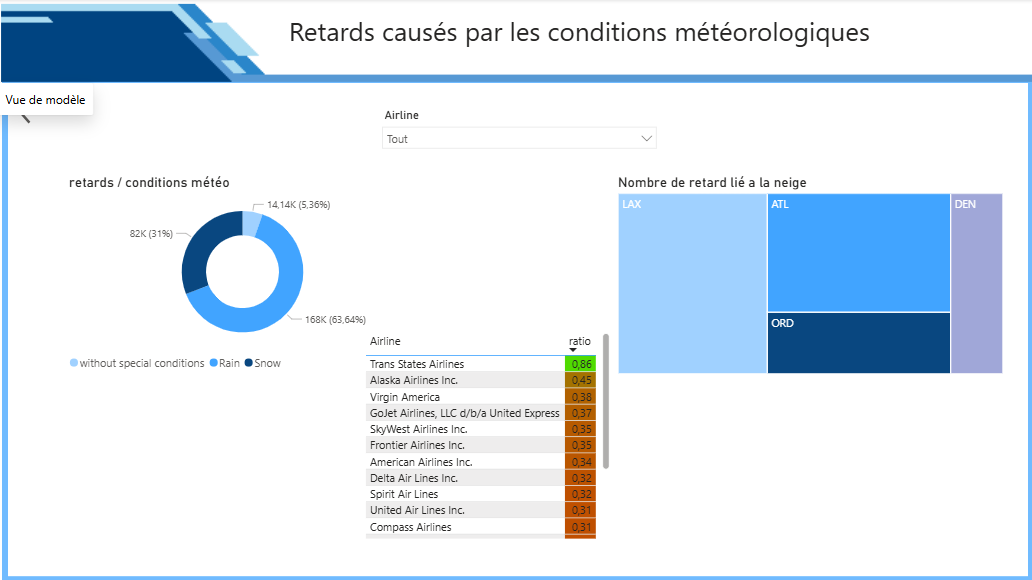

What the dashboard file says about the page in this screenshot:
{"tool":"powerbi","page":{"name":"Retards les plus importants causés par les conditions météorologiques","canvas":[1280,720],"ordinal":2},"visuals":[{"type":"shape","box":[6.4,91.8,1273.6,628.2],"z":0},{"type":"image","box":[0,0,1600,108.9],"z":1000},{"type":"shape","box":[13.6,103.6,1256.4,607.3],"z":2000},{"type":"textbox","box":[355,10.9,865.8,67],"z":3000},{"type":"slicer","fields":{"Values":["flights top_delay_during_snow.Airline"]},"box":[463.5,129,358.2,55.7],"z":4000},{"type":"donutChart","title":"retards / conditions météo","fields":{"Y":["Sum(flights top_delay_by_airline.max(ArrDelayMinutes))","Sum(flights top_delay_during_snow.ArrDelayMinutes)","Sum(flights top_delay_by_weather.DelayMinutes)"]},"box":[83.7,215.4,436.9,251.1],"z":5000},{"type":"treemap","title":"Nombre de retard lié a la neige ","fields":{"Group":["flights top_delay_during_snow.Dest"],"Values":["CountNonNull(flights top_delay_during_snow.ArrDelayMinutes)"]},"box":[759.4,215.4,483.7,251.1],"z":6000},{"type":"actionButton","box":[21.1,117.8,43.3,40],"z":7000},{"type":"tableEx","fields":{"Values":["flights number_of_flights_by_airline.Airline","flights number_of_flights_by_airline.ratio"]},"box":[448,406.2,311.4,263.4],"z":8000}]}

Visuals, with their boxes on the page's 1280x720 design canvas (x1, y1, x2, y2). These are canvas units, not pixel positions in the 1032x580 screenshot, which may show the page scaled, cropped or inside an application window:
shape: 6/92/1280/720
image: 0/0/1600/109
shape: 14/104/1270/711
textbox: 355/11/1221/78
slicer - flights top_delay_during_snow.Airline: 464/129/822/185
"retards / conditions météo" donutChart: 84/215/521/466
"Nombre de retard lié a la neige " treemap: 759/215/1243/466
actionButton: 21/118/64/158
tableEx - flights number_of_flights_by_airline.Airline x flights number_of_flights_by_airline.ratio: 448/406/759/670
